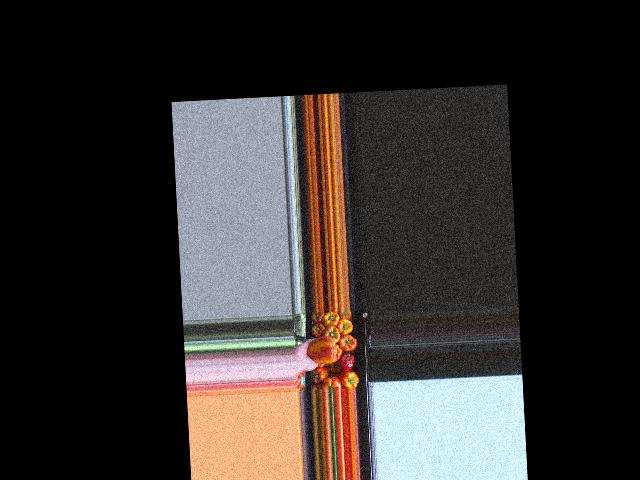bell_pepper: (313, 365, 328, 384)
